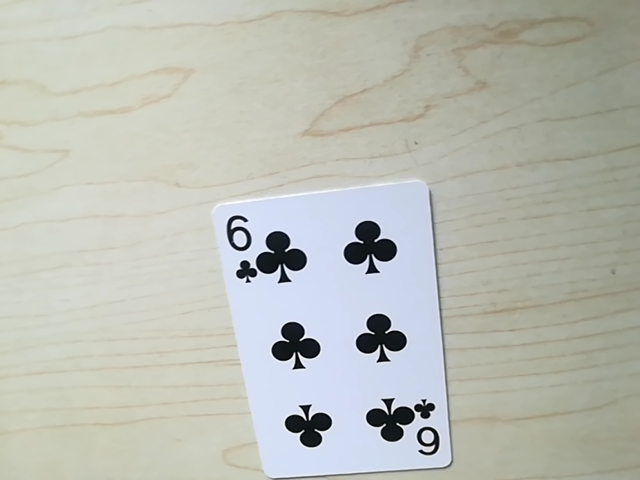mh 6: (221, 219, 263, 274), (407, 403, 444, 461)
